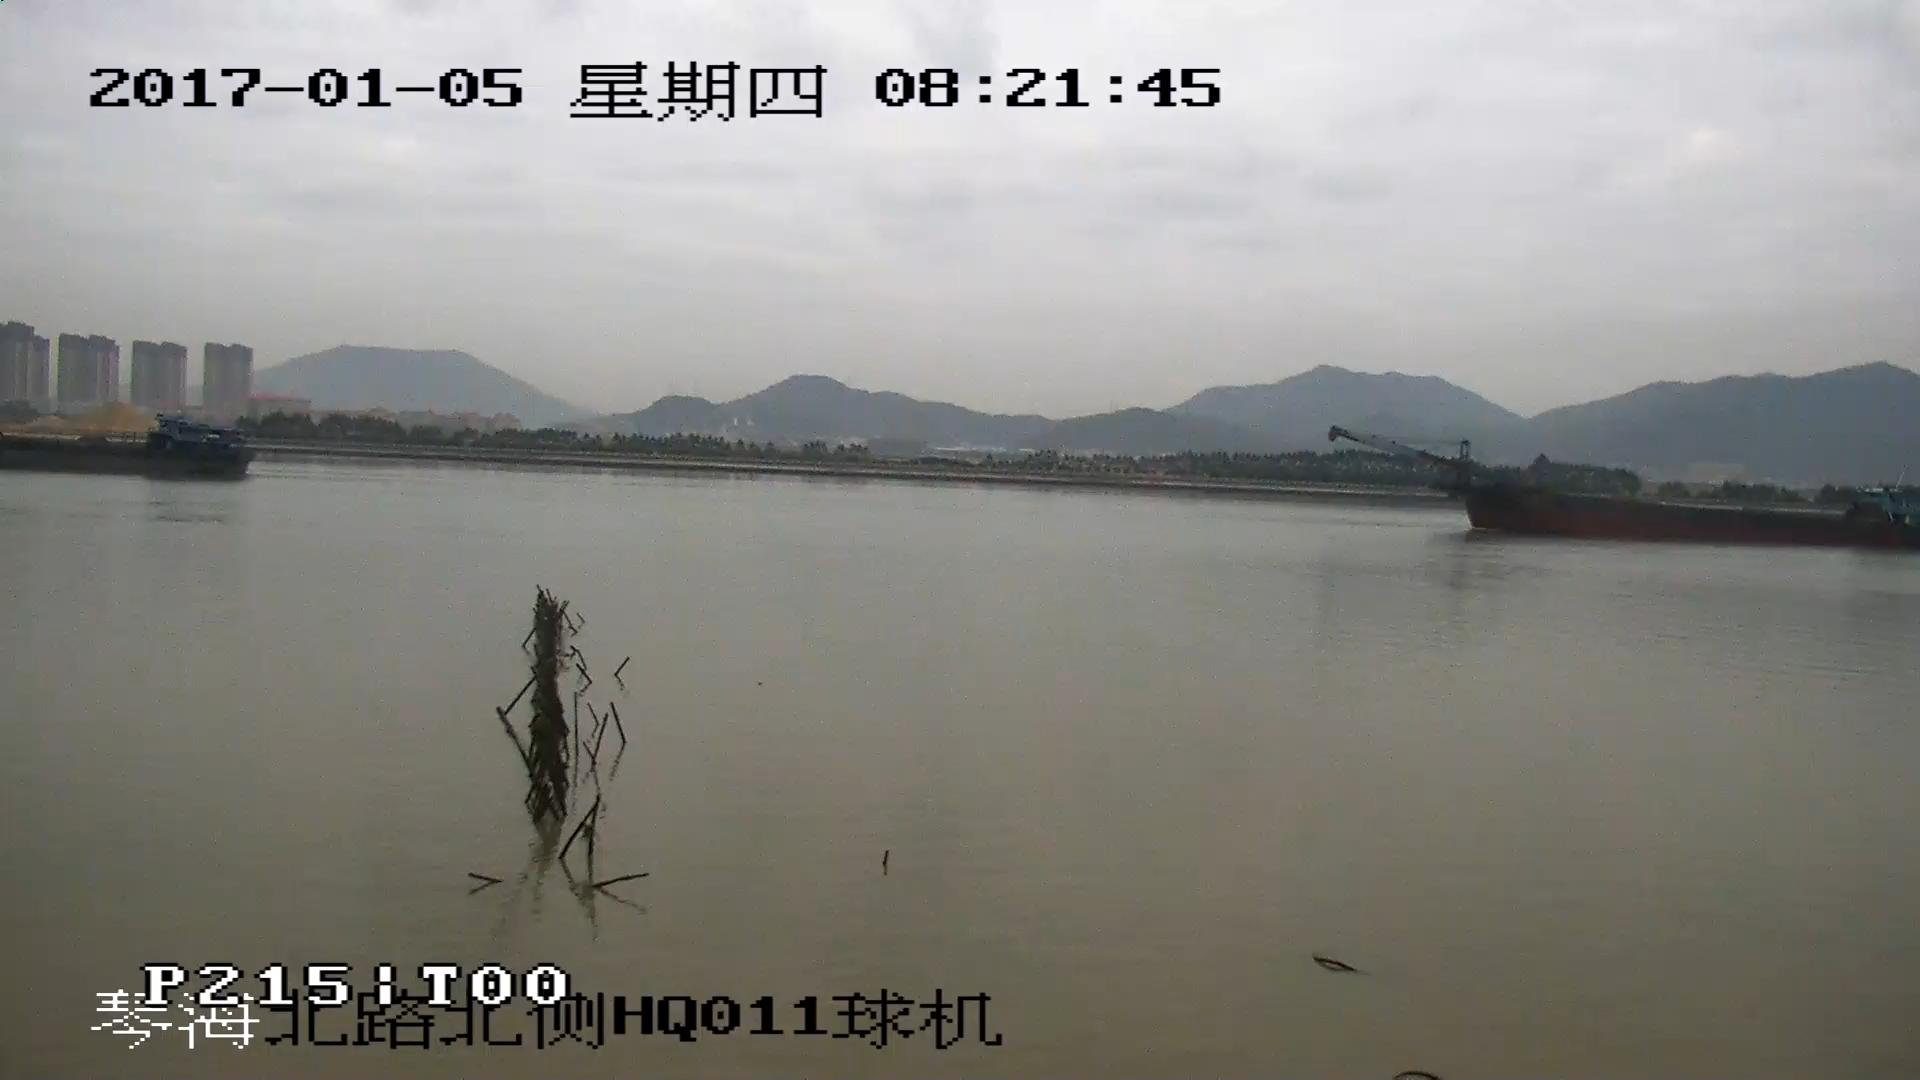bulk cargo carrier: (1329, 430, 1920, 550), (1, 417, 259, 477)
